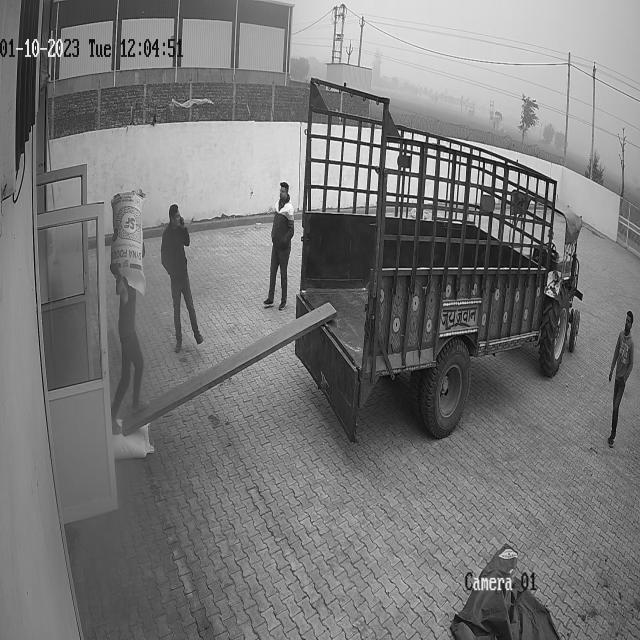sack: (110, 190, 146, 293), (114, 426, 153, 458)
